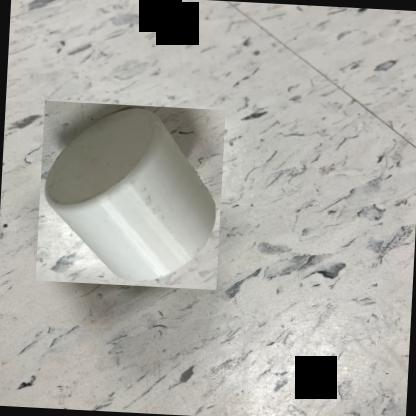white cylinder: (35, 100, 225, 290)
